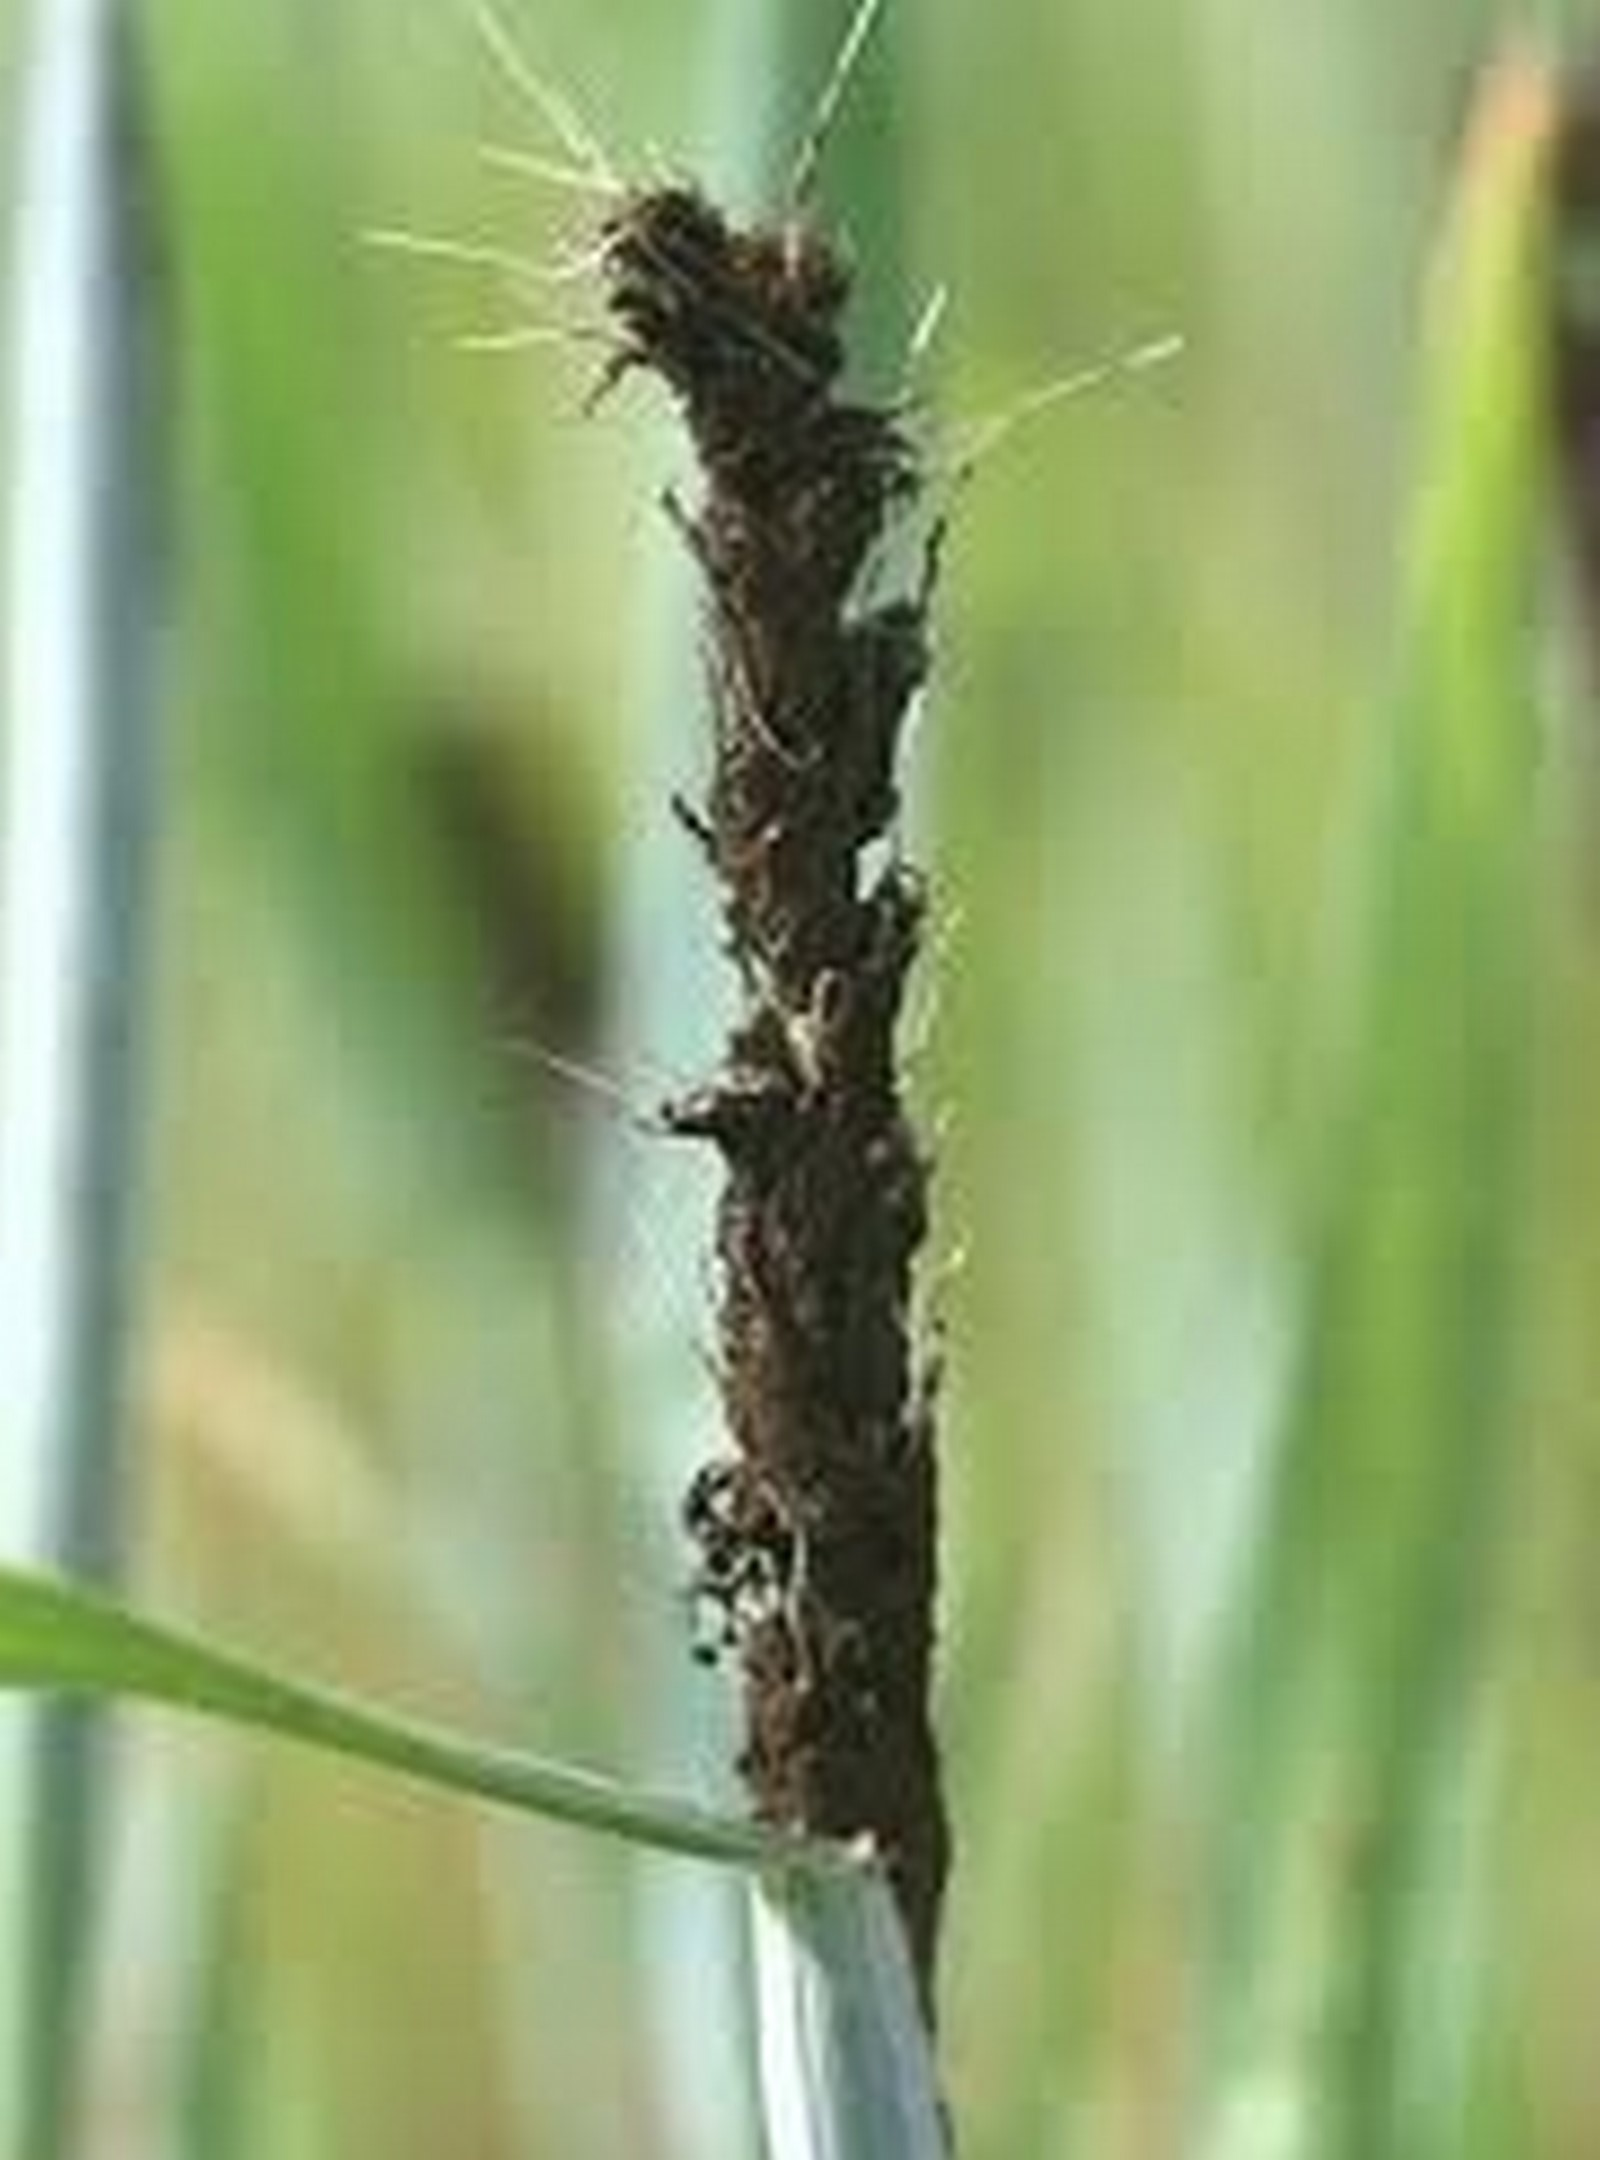Wheat Loose Smut: (531, 173, 1024, 1836)
